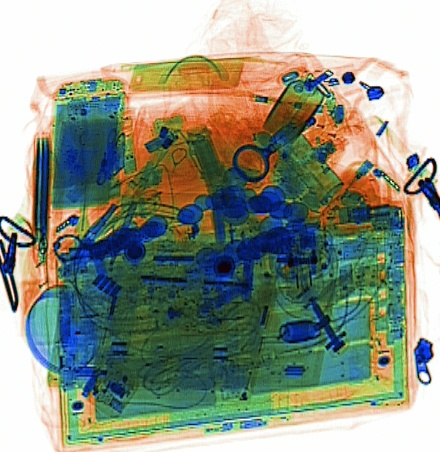powerbank: (28, 129, 53, 267)
